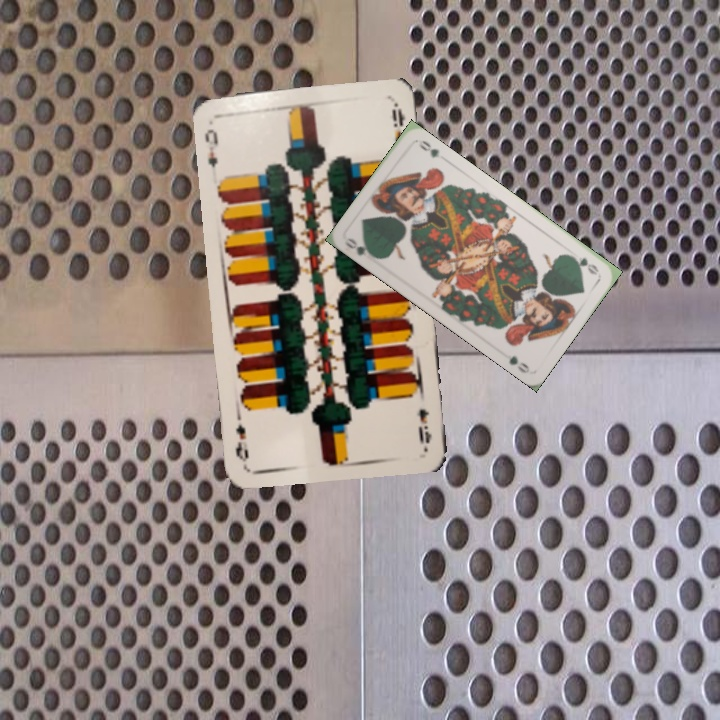E9: (413, 405, 435, 447), (201, 125, 221, 171)
GO: (341, 234, 381, 265), (565, 251, 602, 278)
